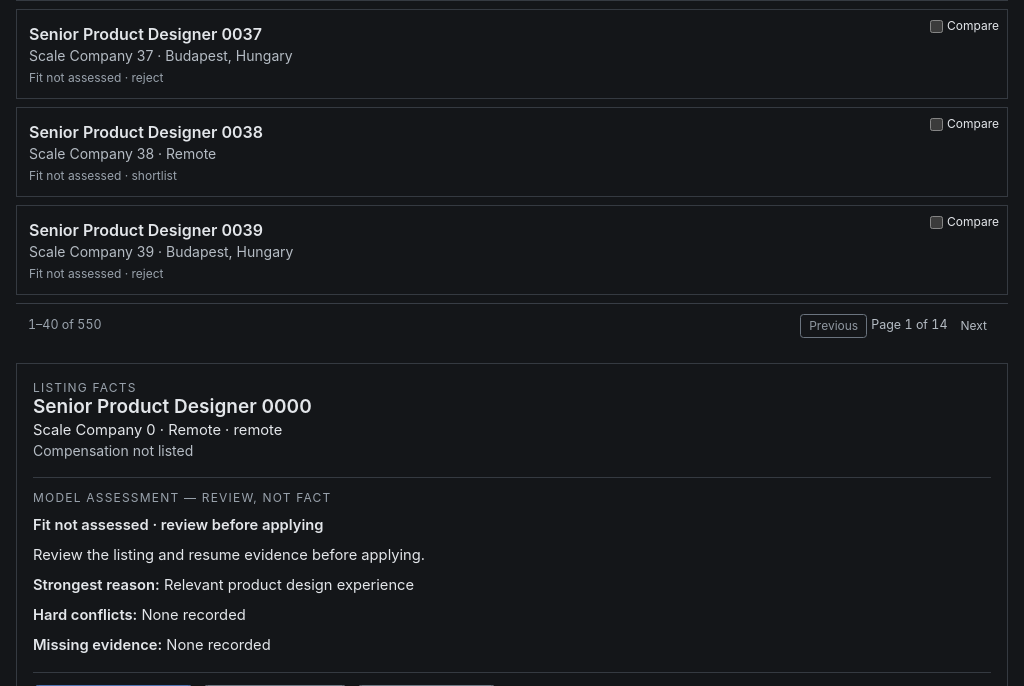
Test case: RapidReviewScreen workspace scale › mounts one page for a 550-job campaign and keeps paging accessible
(page scrolled)
Expected: the text "1–40 of 550" is shown, x1=28 y1=316 x2=102 y2=335
Expected: the navigation bar named "jobs pagination" is shown, x1=16 y1=303 x2=1008 y2=347
Click the button with aria-label "Next page".
click(974, 326)  # box x1=952 y1=314 x2=996 y2=338
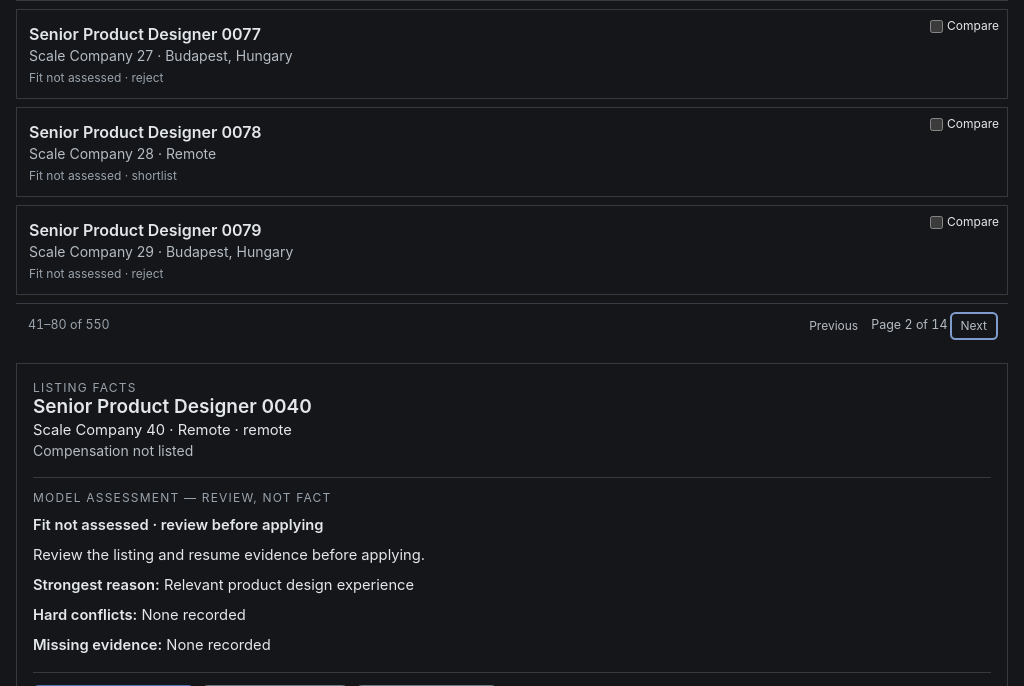
Result: the text "41–80 of 550" is shown at x1=28 y1=316 x2=110 y2=335
